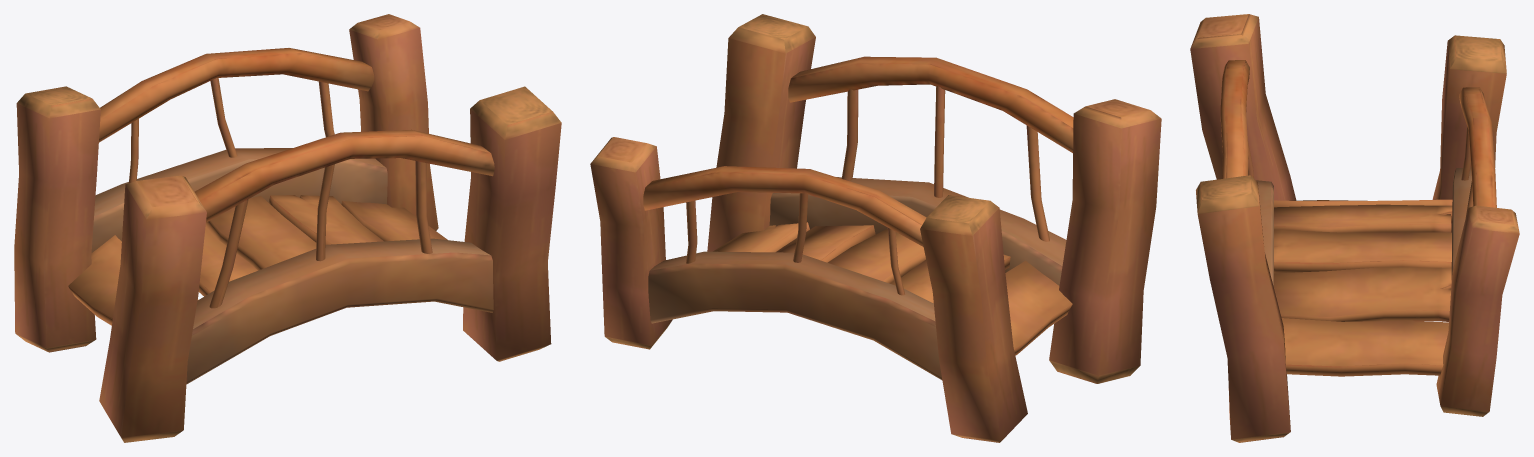
The model's file is bridge.fbx.
The picture shows the model from 3 angles, left to right: view 1: azimuth 30°, elevation 25°; view 2: azimuth 150°, elevation 25°; view 3: azimuth 270°, elevation 25°; orthographic projection. The views are drawn at different scales.
Visible parts, largest first — view 1: Object_86; view 2: Object_86; view 3: Object_86.
Part boxes in pixels (<box>): Object_86: <box>14,14,561,442</box>; Object_86: <box>590,14,1161,442</box>; Object_86: <box>1190,14,1519,442</box>.
Size of the model in its own units: 282 by 170 by 202.
